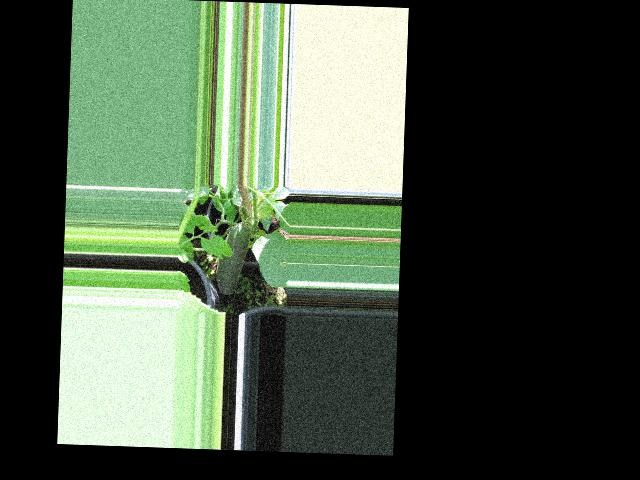cucumber: (216, 222, 251, 295)
